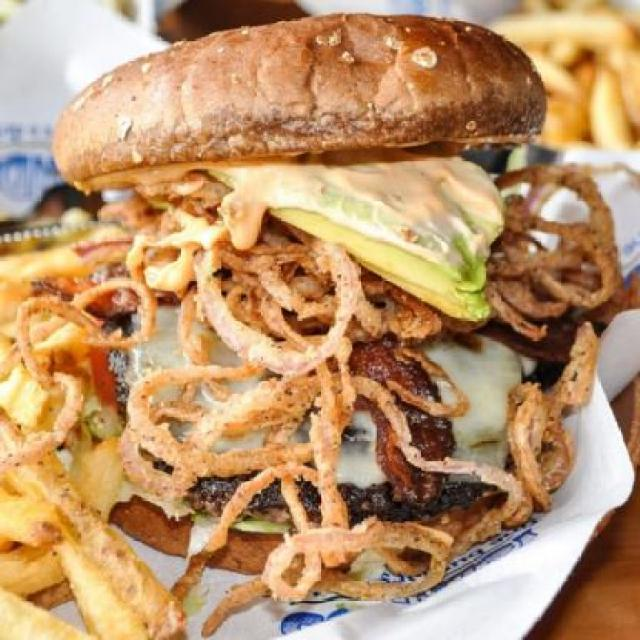Hamburger: (0, 14, 638, 639)
